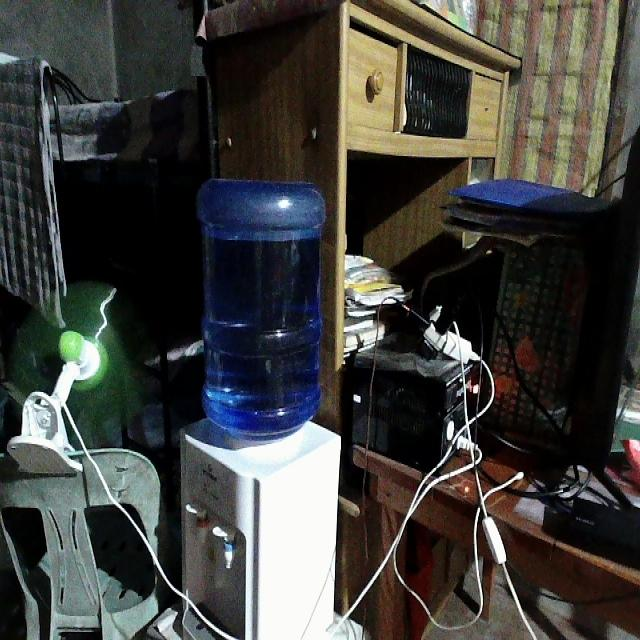-: (402, 285, 476, 363)
